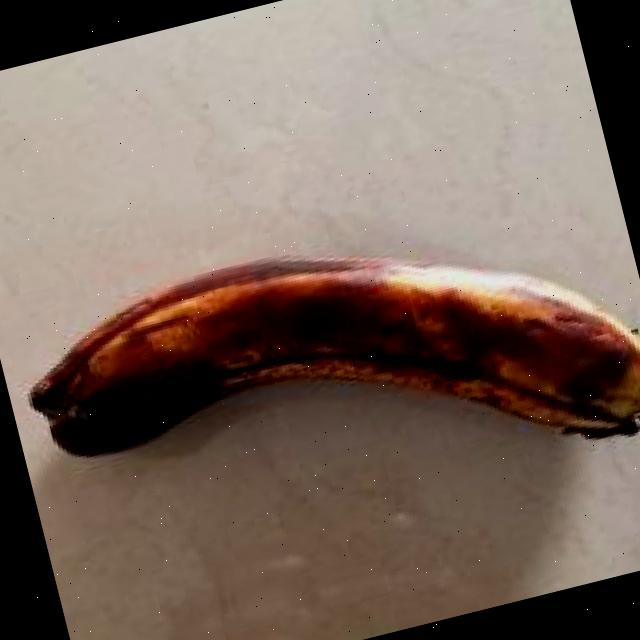Rotten: (0, 135, 640, 608)
